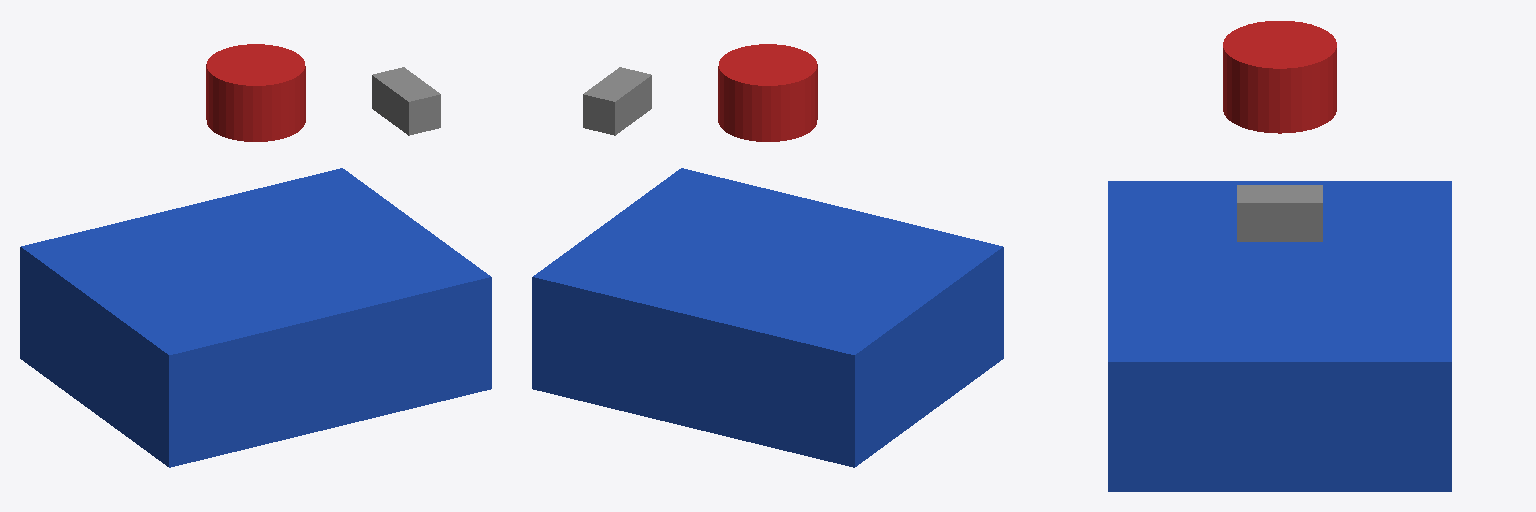
robot.urdf — roscar:
<?xml version="1.0"?>
<robot name="roscar">

  <!-- 尺寸参数 (对应 motor.h):
       轮距 0.16872 m, 轮径 0.0695 m, 轮周长 0.21834 m -->

  <!-- ==================== 车体 ==================== -->
  <link name="base_link">
    <visual>
      <geometry>
        <box size="0.30 0.24 0.10"/>
      </geometry>
      <material name="blue">
        <color rgba="0.2 0.4 0.8 1.0"/>
      </material>
    </visual>
    <collision>
      <geometry>
        <box size="0.30 0.24 0.10"/>
      </geometry>
    </collision>
  </link>

  <!-- 左轮 -->
  <link name="wheel_left_link">
    <visual>
      <geometry>
        <cylinder radius="0.03475" length="0.04"/>
      </geometry>
      <material name="black">
        <color rgba="0.1 0.1 0.1 1.0"/>
      </material>
    </visual>
    <collision>
      <geometry>
        <cylinder radius="0.03475" length="0.04"/>
      </geometry>
    </collision>
  </link>

  <joint name="wheel_left_joint" type="continuous">
    <parent link="base_link"/>
    <child link="wheel_left_link"/>
    <origin xyz="0 0.08436 0" rpy="0 0 0"/>
    <axis xyz="0 1 0"/>
  </joint>

  <!-- 右轮 -->
  <link name="wheel_right_link">
    <visual>
      <geometry>
        <cylinder radius="0.03475" length="0.04"/>
      </geometry>
      <material name="black">
        <color rgba="0.1 0.1 0.1 1.0"/>
      </material>
    </visual>
    <collision>
      <geometry>
        <cylinder radius="0.03475" length="0.04"/>
      </geometry>
    </collision>
  </link>

  <joint name="wheel_right_joint" type="continuous">
    <parent link="base_link"/>
    <child link="wheel_right_link"/>
    <origin xyz="0 -0.08436 0" rpy="0 0 0"/>
    <axis xyz="0 1 0"/>
  </joint>

  <!-- ==================== 激光雷达 (laser frame, 与ydlidar驱动对齐) ==================== -->
  <link name="laser">
    <visual>
      <geometry>
        <cylinder radius="0.04" length="0.05"/>
      </geometry>
      <material name="lidar_red">
        <color rgba="0.8 0.2 0.2 1.0"/>
      </material>
    </visual>
  </link>

  <joint name="laser_joint" type="fixed">
    <parent link="base_link"/>
    <child link="laser"/>
    <origin xyz="0 0 0.20" rpy="0 0 0"/>
  </joint>

  <!-- ==================== 摄像头 (camera frame) ==================== -->
  <link name="camera_link">
    <visual>
      <geometry>
        <box size="0.03 0.06 0.03"/>
      </geometry>
      <material name="camera_gray">
        <color rgba="0.6 0.6 0.6 1.0"/>
      </material>
    </visual>
  </link>

  <joint name="camera_joint" type="fixed">
    <parent link="base_link"/>
    <child link="camera_link"/>
    <origin xyz="0.14 0 0.16" rpy="0 0 0"/>
  </joint>

  <link name="camera_optical_frame"/>

  <joint name="camera_optical_joint" type="fixed">
    <parent link="camera_link"/>
    <child link="camera_optical_frame"/>
    <origin xyz="0 0 0" rpy="-1.5707963 0 -1.5707963"/>
  </joint>

  <material name="blue">
    <color rgba="0.2 0.4 0.8 1.0"/>
  </material>
  <material name="black">
    <color rgba="0.1 0.1 0.1 1.0"/>
  </material>
</robot>

--- Render facts (derived) ---
3 views of the same robot in one strip: view 1: azimuth 30°, elevation 25°; view 2: azimuth 150°, elevation 25°; view 3: azimuth 270°, elevation 25° (orthographic).
Robot: roscar — 6 links, 5 joints (2 continuous, 3 fixed); root link base_link; default pose: every joint at zero.
Links seen in each view (by area): view 1: base_link, laser, camera_link; view 2: base_link, laser, camera_link; view 3: base_link, laser, camera_link.
Link boxes in pixels (x1,y1,x2,y2): base_link: (20,168,491,467); laser: (206,44,305,141); camera_link: (372,67,440,135); base_link: (532,168,1003,467); laser: (718,44,817,141); camera_link: (583,67,651,135); base_link: (1108,181,1451,491); laser: (1223,21,1336,133); camera_link: (1237,185,1322,241).
Size in the robot's own frame: 0.305 by 0.24 by 0.275 metres.
Geometry: primitives only (box / cylinder / sphere), no mesh files.
